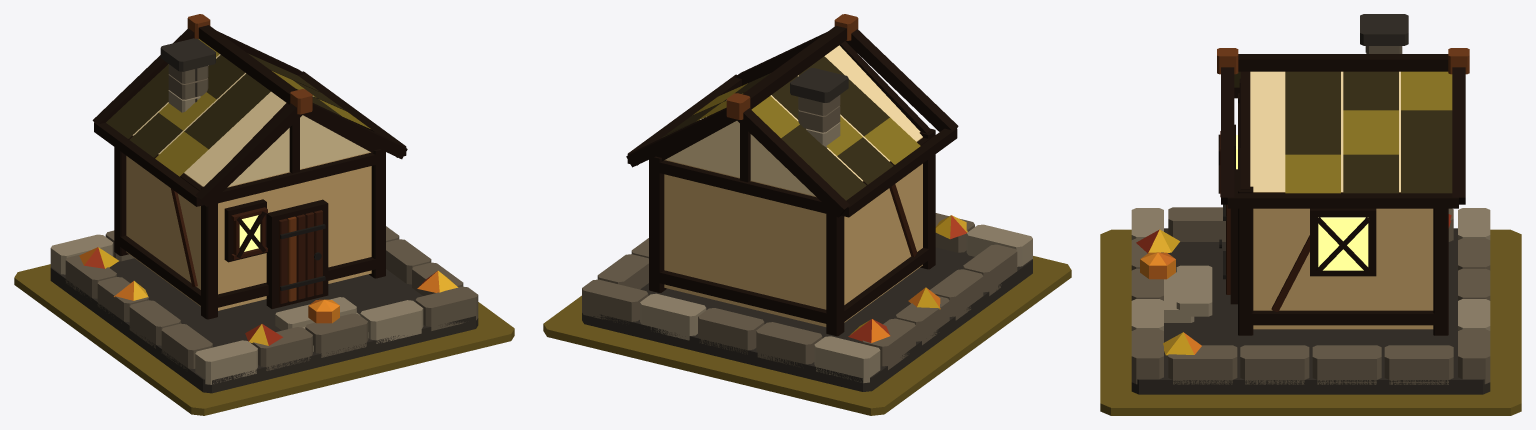
File: cottage_t1.glb
The picture shows the model from 3 angles, left to right: view 1: azimuth 30°, elevation 25°; view 2: azimuth 150°, elevation 25°; view 3: azimuth 270°, elevation 25°; orthographic projection. The views are drawn at different scales.
Visible parts, largest first — view 1: MMR | cottage | T01 Architecture.001, MMR | cottage | Tier 01 Ground.001, MMR | cottage | T01 Autumn Dressing.001; view 2: MMR | cottage | T01 Architecture.001, MMR | cottage | Tier 01 Ground.001, MMR | cottage | T01 Autumn Dressing.001; view 3: MMR | cottage | T01 Architecture.001, MMR | cottage | Tier 01 Ground.001, MMR | cottage | T01 Autumn Dressing.001.
Boxes of the visible parts, x1,y1,x2,y2 form: MMR | cottage | T01 Architecture.001: [50, 14, 478, 393]; MMR | cottage | Tier 01 Ground.001: [14, 264, 514, 415]; MMR | cottage | T01 Autumn Dressing.001: [79, 247, 458, 345]; MMR | cottage | T01 Architecture.001: [582, 14, 1032, 391]; MMR | cottage | Tier 01 Ground.001: [543, 256, 1071, 415]; MMR | cottage | T01 Autumn Dressing.001: [848, 215, 967, 342]; MMR | cottage | T01 Architecture.001: [1131, 14, 1490, 394]; MMR | cottage | Tier 01 Ground.001: [1100, 229, 1521, 415]; MMR | cottage | T01 Autumn Dressing.001: [1136, 214, 1451, 355].
Size of the model in its own units: 2.35 by 1.71 by 2.35.
Materials: 2 (1 with a texture image).
